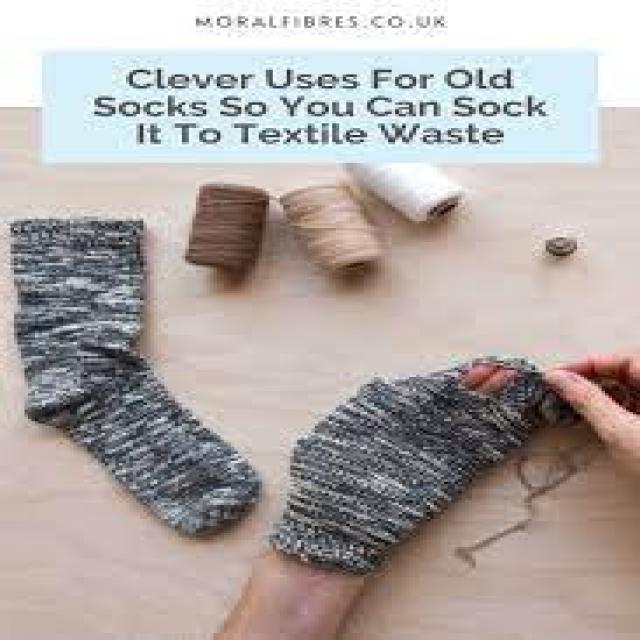Clothes -Biodegradable-: (9, 216, 268, 537), (264, 355, 580, 575)
